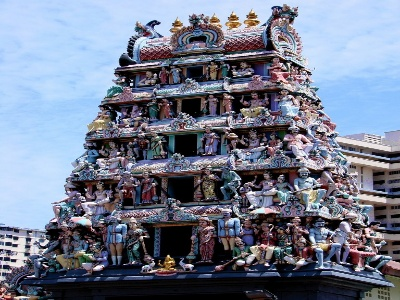gopura: (56, 28, 375, 268)
